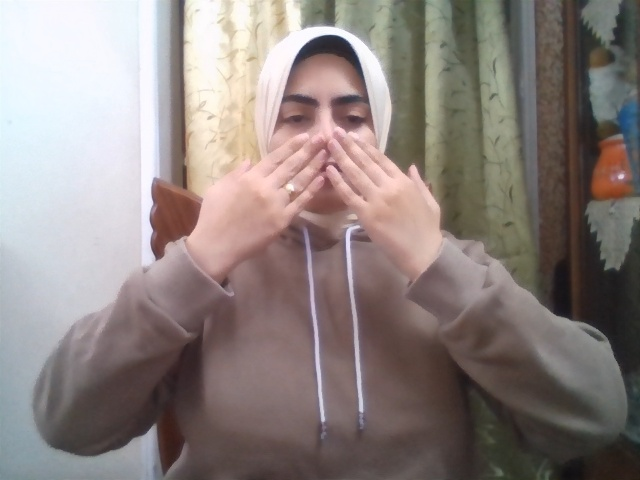thanks: (198, 128, 442, 266)
